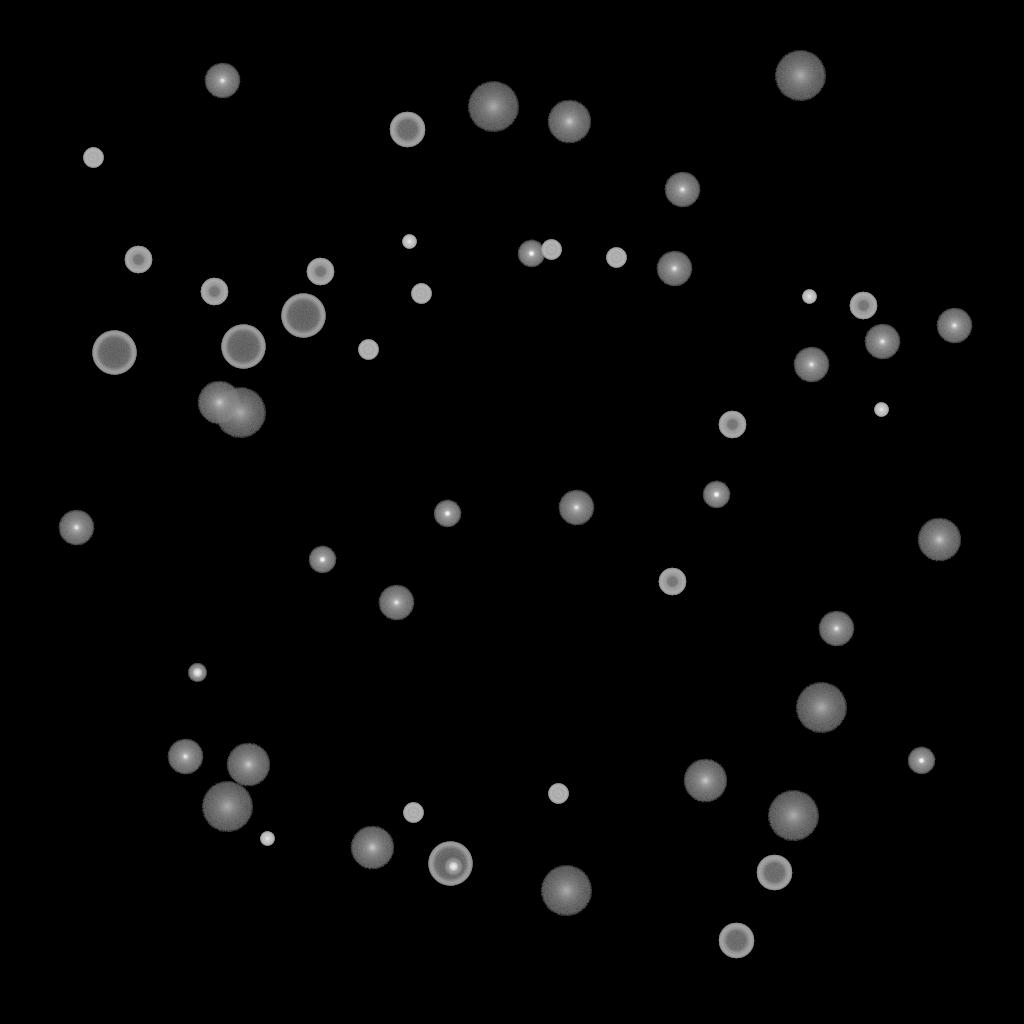depth:-10: (517, 240, 545, 268), (308, 546, 336, 574), (702, 481, 730, 509), (433, 500, 461, 528), (907, 747, 935, 775)
depth:-20: (188, 664, 206, 682), (444, 858, 462, 876)
depth:-30: (874, 403, 888, 417), (260, 832, 274, 846), (402, 235, 416, 249), (802, 290, 816, 304)
depth:-40: (548, 784, 568, 804), (411, 284, 431, 304), (358, 340, 378, 360), (541, 240, 561, 260), (606, 248, 626, 268), (83, 148, 103, 168), (403, 803, 423, 823)
depth:-50: (124, 246, 152, 274), (658, 568, 686, 596), (849, 292, 877, 320), (718, 411, 746, 439), (200, 278, 228, 306), (306, 258, 334, 286)
depth:-60: (756, 855, 792, 891), (389, 112, 425, 148), (718, 923, 754, 959)
depth:-70: (281, 294, 325, 338), (428, 842, 472, 886), (92, 331, 136, 375), (221, 325, 265, 369)
depth:0: (58, 510, 94, 546), (378, 585, 414, 621), (558, 490, 594, 526), (167, 739, 203, 775), (793, 347, 829, 383), (656, 251, 692, 287), (936, 308, 972, 344), (818, 611, 854, 647), (864, 324, 900, 360), (204, 63, 240, 99), (664, 172, 700, 208)
depth:10: (917, 518, 961, 562), (350, 826, 394, 870), (683, 759, 727, 803), (547, 100, 591, 144), (226, 743, 270, 787), (197, 381, 241, 425)
depth:20: (467, 82, 519, 132), (540, 866, 592, 916), (767, 791, 819, 841), (201, 782, 253, 832), (795, 683, 847, 733), (214, 388, 266, 438), (774, 51, 826, 101)
